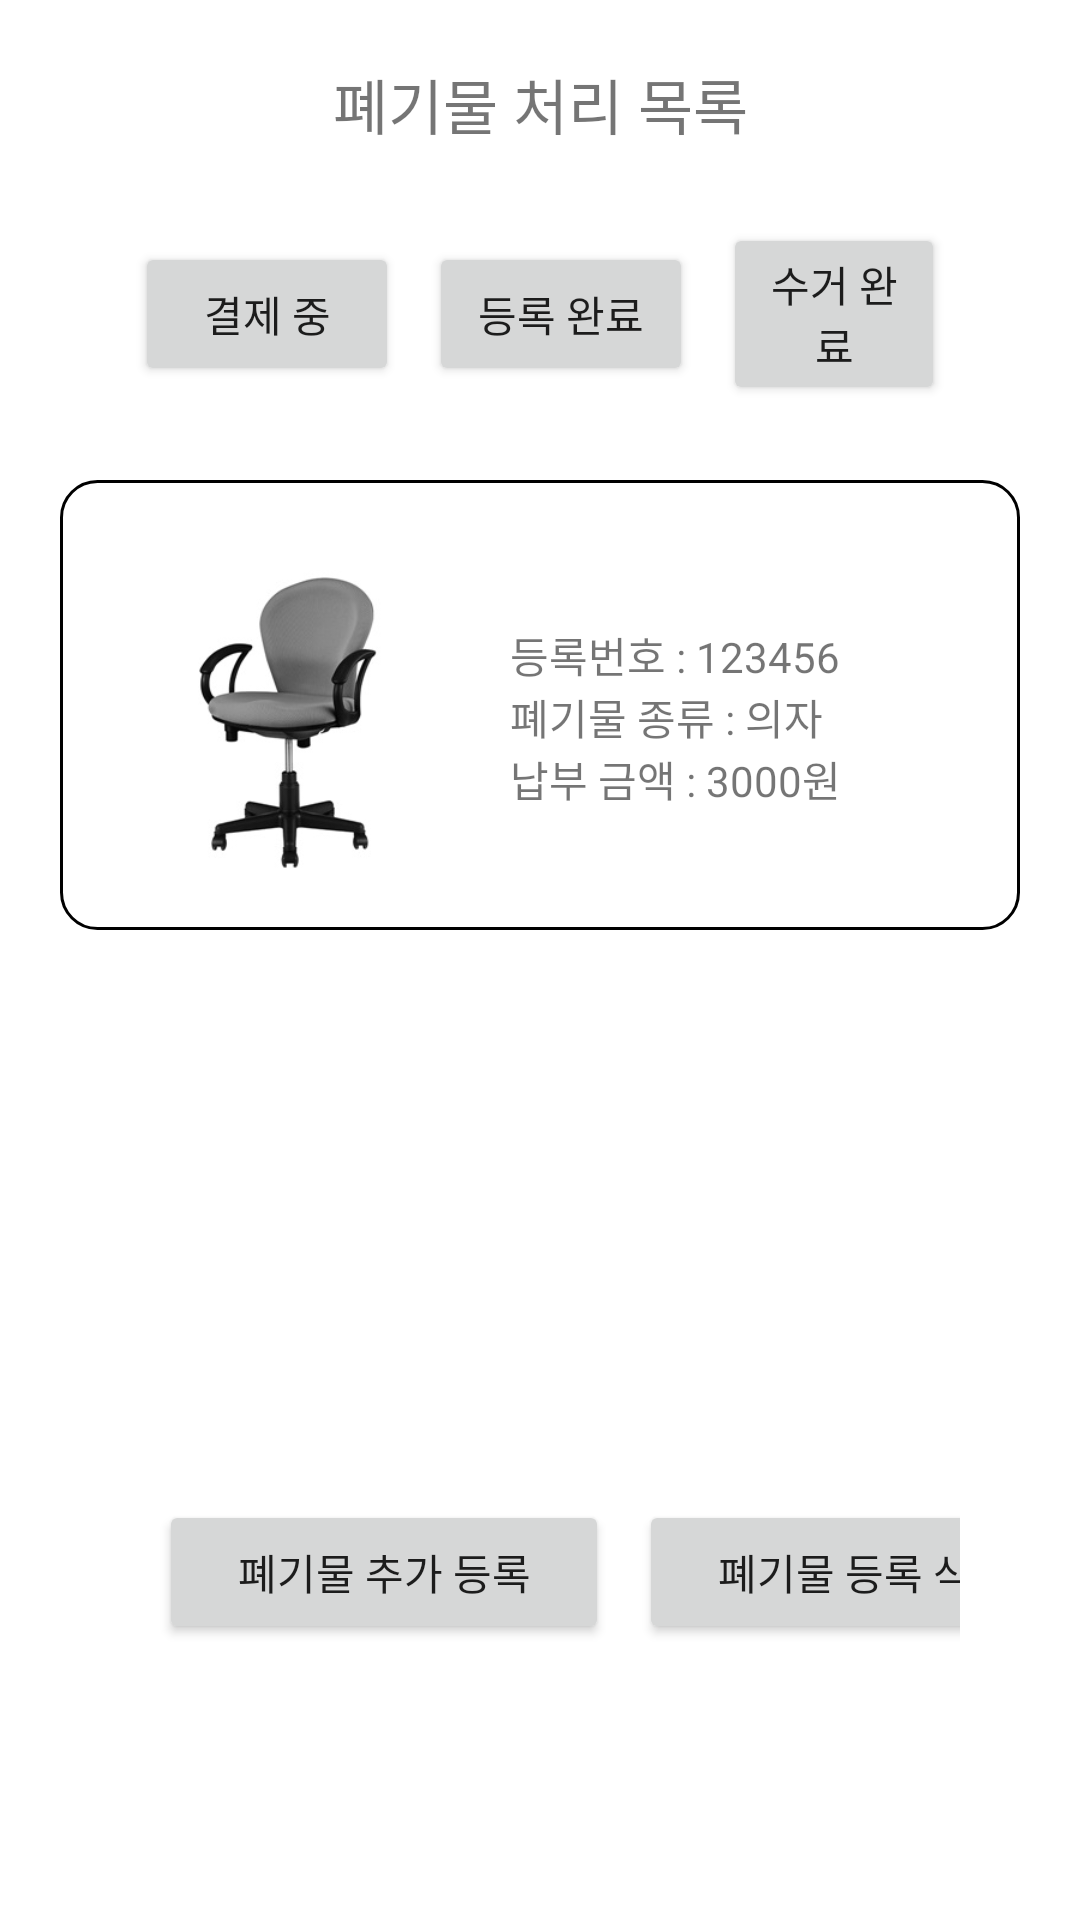

Where to tap for icons on this 1080 x 1920 app screen, as (x,y):
chair: (287,722)
